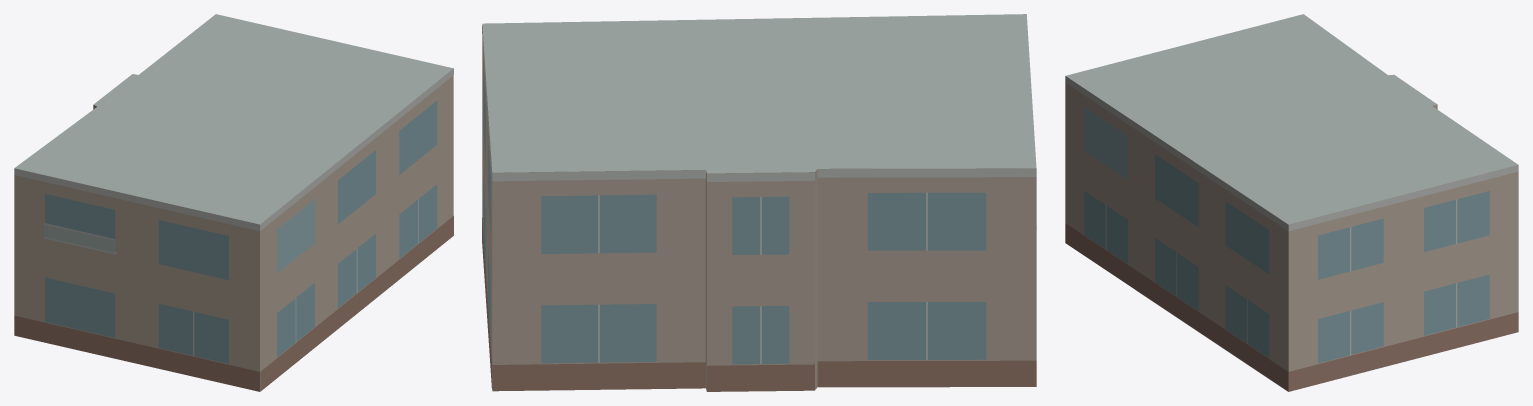
Rendered from survey-upis-32619362.glb.
3 renders of one model, left to right at view 1: azimuth 30°, elevation 25°; view 2: azimuth 150°, elevation 25°; view 3: azimuth 270°, elevation 25°, orthographic. The views are drawn at different scales.
Parts seen in each view (by area): view 1: survey-upis-32619362.tmp; view 2: survey-upis-32619362.tmp; view 3: survey-upis-32619362.tmp.
Boxes of the visible parts, left/top/right/bottom form: survey-upis-32619362.tmp: left=14, top=14, right=453, bottom=391; survey-upis-32619362.tmp: left=482, top=14, right=1036, bottom=391; survey-upis-32619362.tmp: left=1065, top=14, right=1518, bottom=391.
Bounding box in the file's own units: 16.49 × 6.1 × 14.99.
